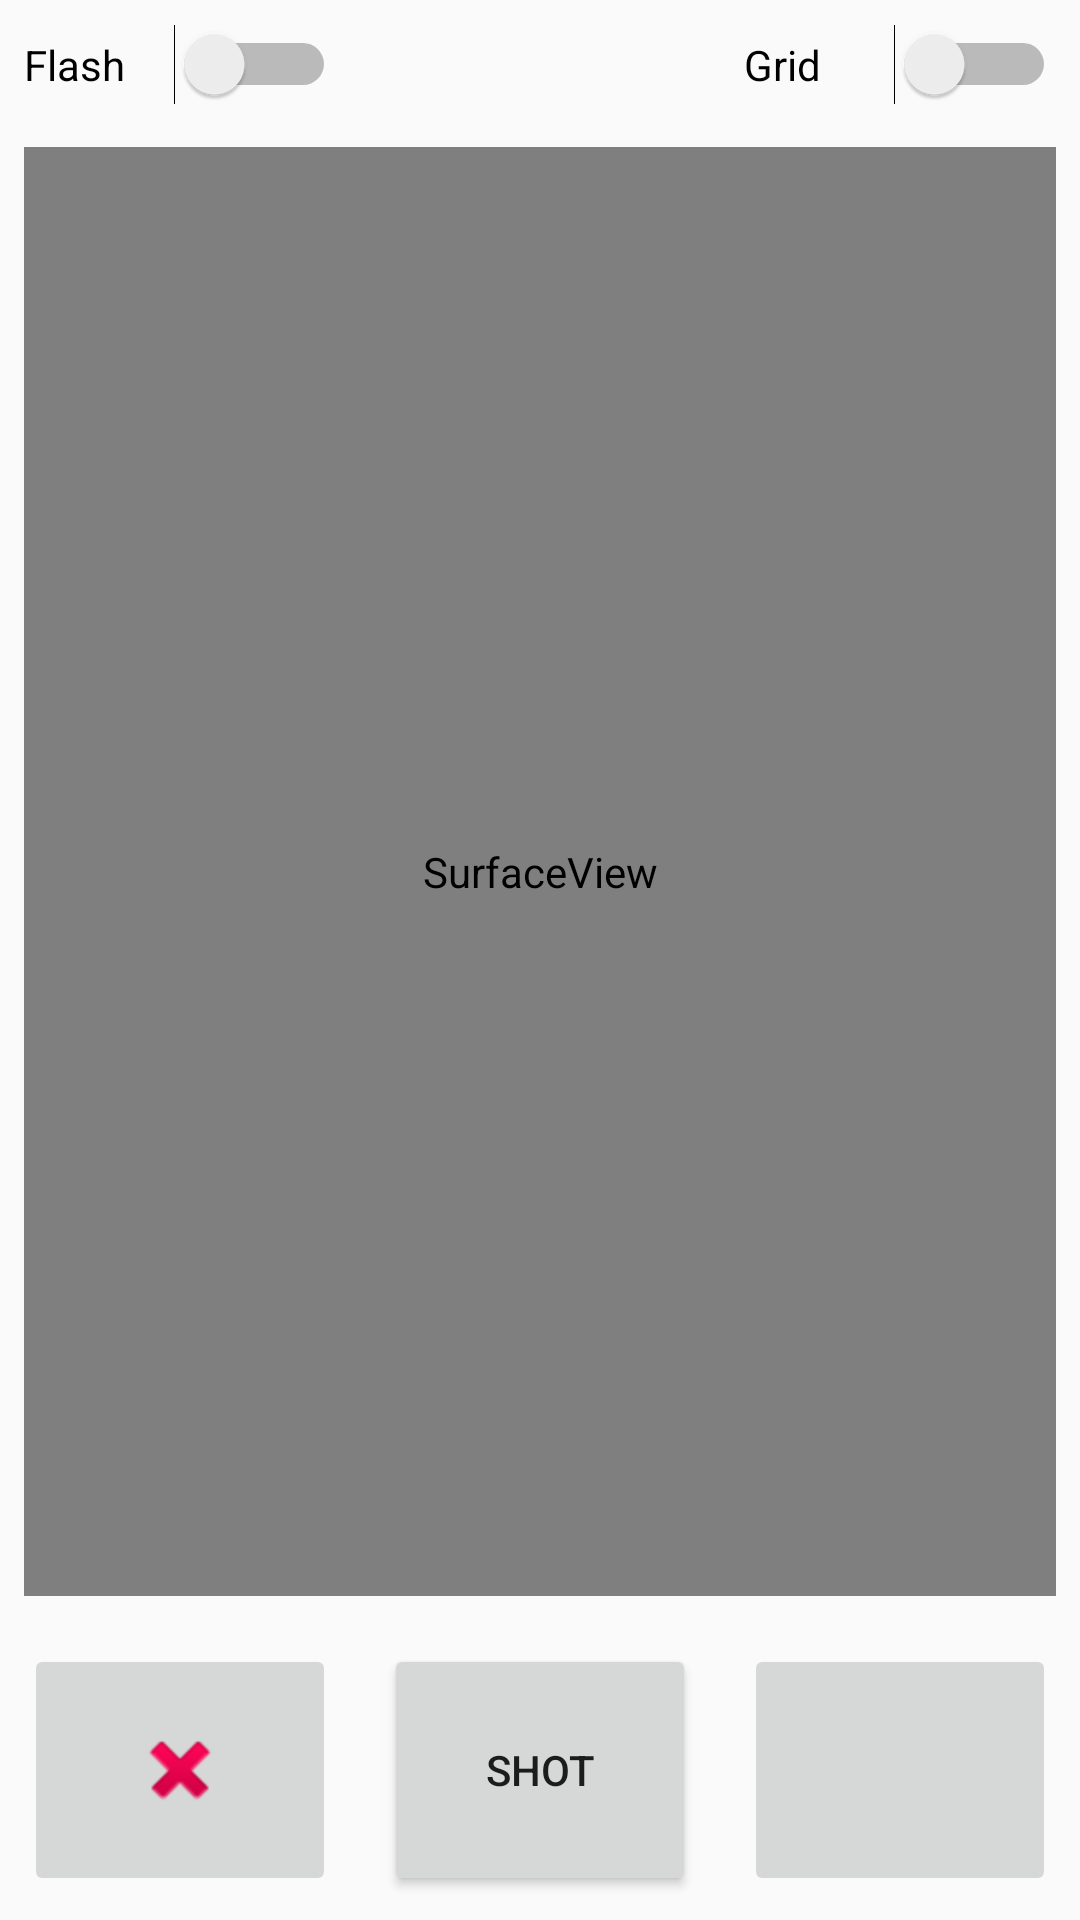

Screen size 1080*1920. Icon name, then its center in pixels as (x,y):
delete: (180,1770)
